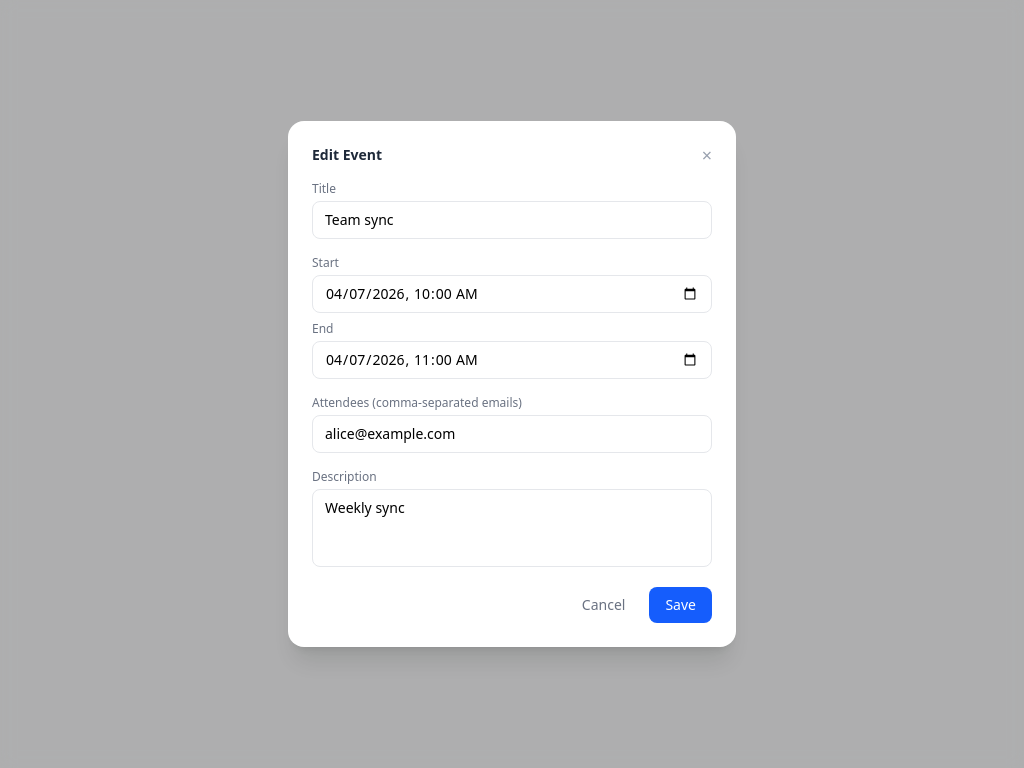
Test: CalendarEventModal › disables save button while saving
The width and height of the screenshot is (1024, 768).
Click the button with test id "modal-save-btn" at (681, 605), box [649,587,712,623]
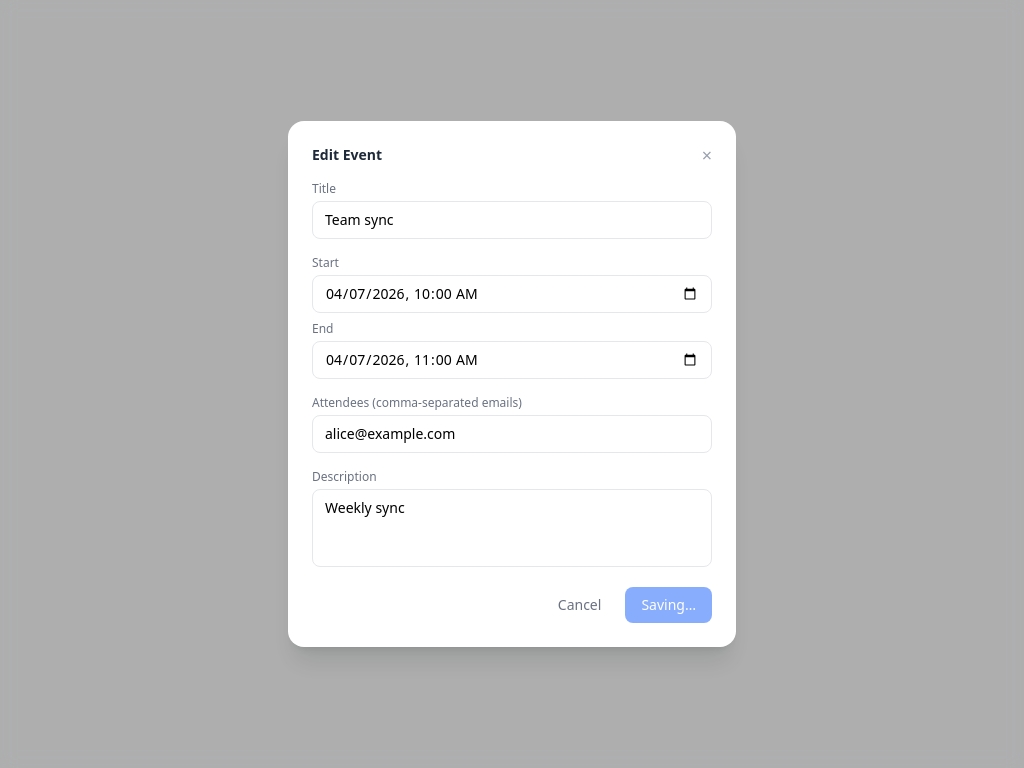
Check: the button with test id "modal-save-btn" is disabled, box [625,587,712,623]
